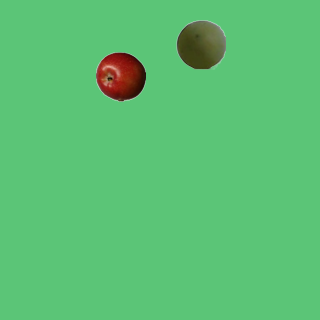Apple Braeburn: (95, 51, 145, 101)
Grape White 4: (175, 19, 225, 69)
